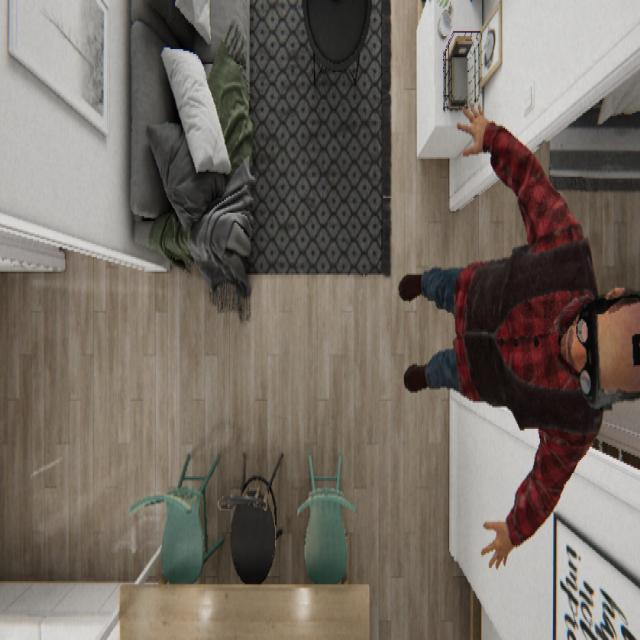Human: (397, 98, 639, 570)
